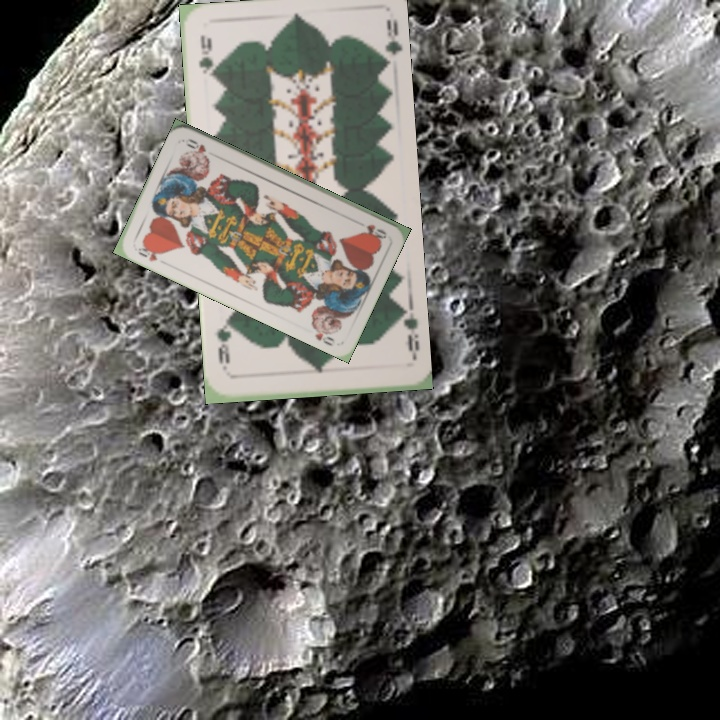G9: (393, 305, 422, 363), (195, 31, 217, 81)
HO: (134, 240, 166, 264), (362, 220, 389, 241)
